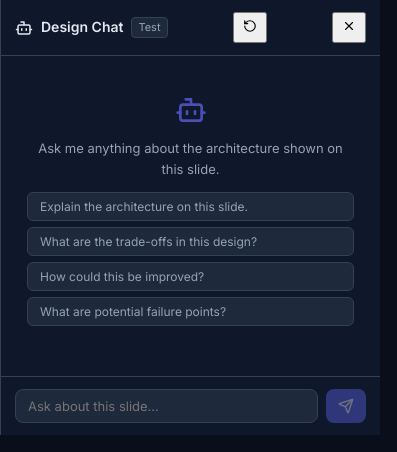
ChatSidebar - user interaction › enables send button when input has text
Type "What does this do?" into the field with placeholder "Ask about this slide…". click: (166, 406)
box: [15, 389, 318, 423]
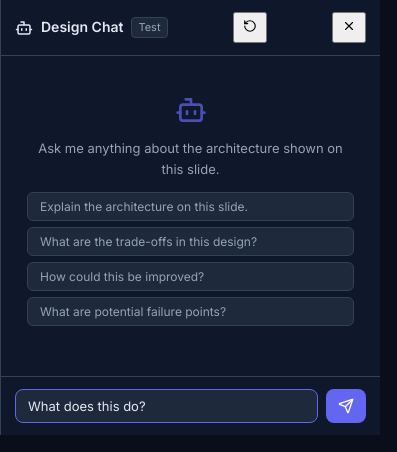
Check: the button with class "send-btn" is enabled, box [326, 389, 366, 423]
